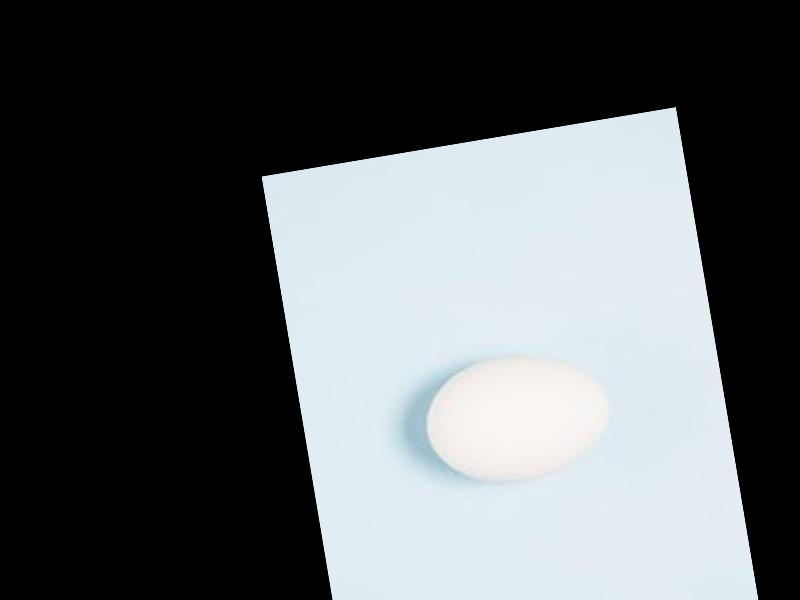Eggs: (417, 342, 621, 495)
